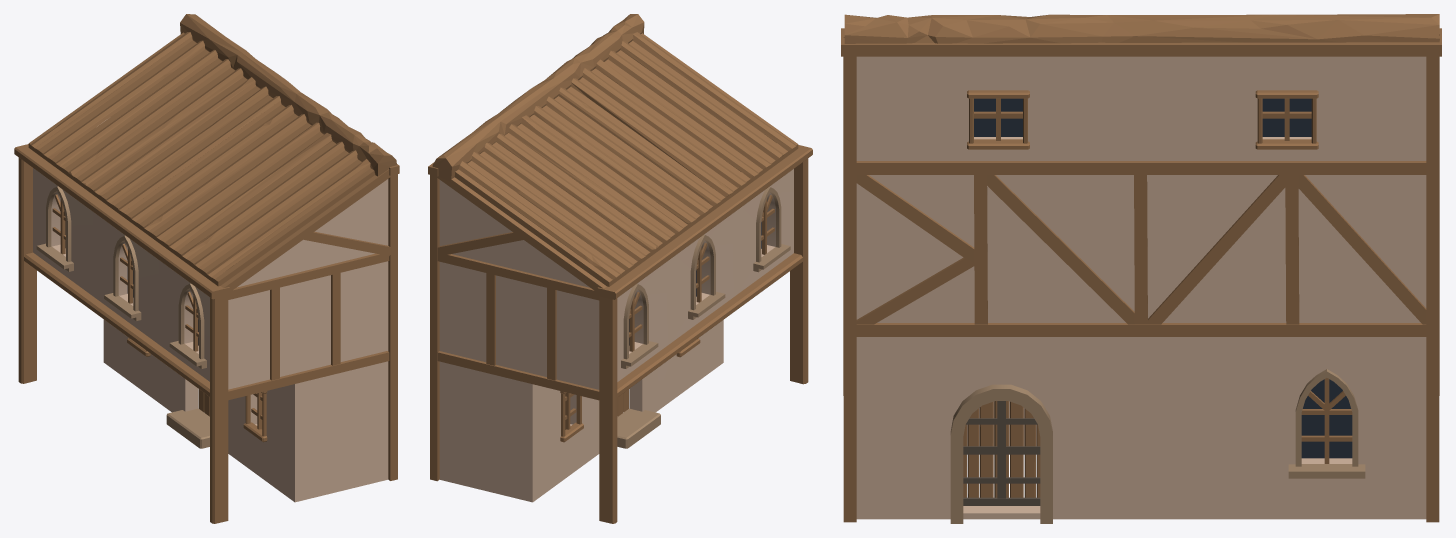
The model's file is civilian_house_41_c.glb.
The picture shows the model from 3 angles, left to right: view 1: azimuth 30°, elevation 25°; view 2: azimuth 150°, elevation 25°; view 3: azimuth 270°, elevation 25°; orthographic projection. The views are drawn at different scales.
Visible parts, largest first — view 1: civilian_house_41_c; view 2: civilian_house_41_c; view 3: civilian_house_41_c.
Part boxes in pixels (<box>): civilian_house_41_c: <box>14,14,399,523</box>; civilian_house_41_c: <box>428,14,812,523</box>; civilian_house_41_c: <box>841,14,1441,523</box>.
Size of the model in its own units: 5.84 by 9.42 by 10.31.
